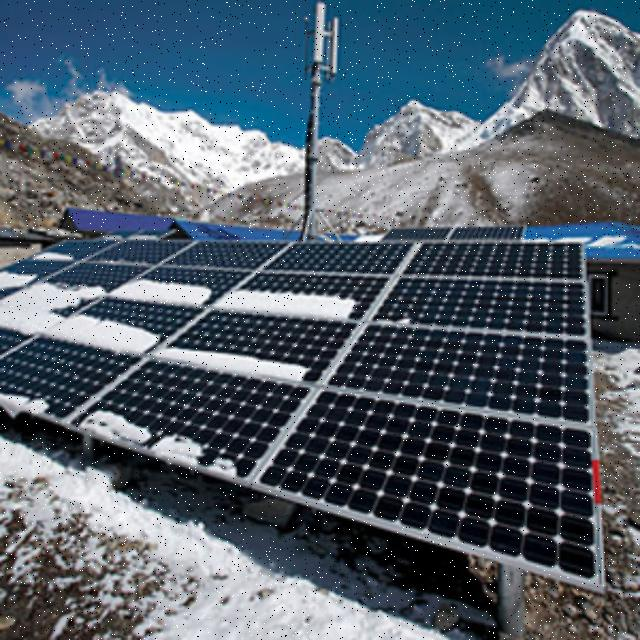snow covered: (9, 238, 417, 479)
